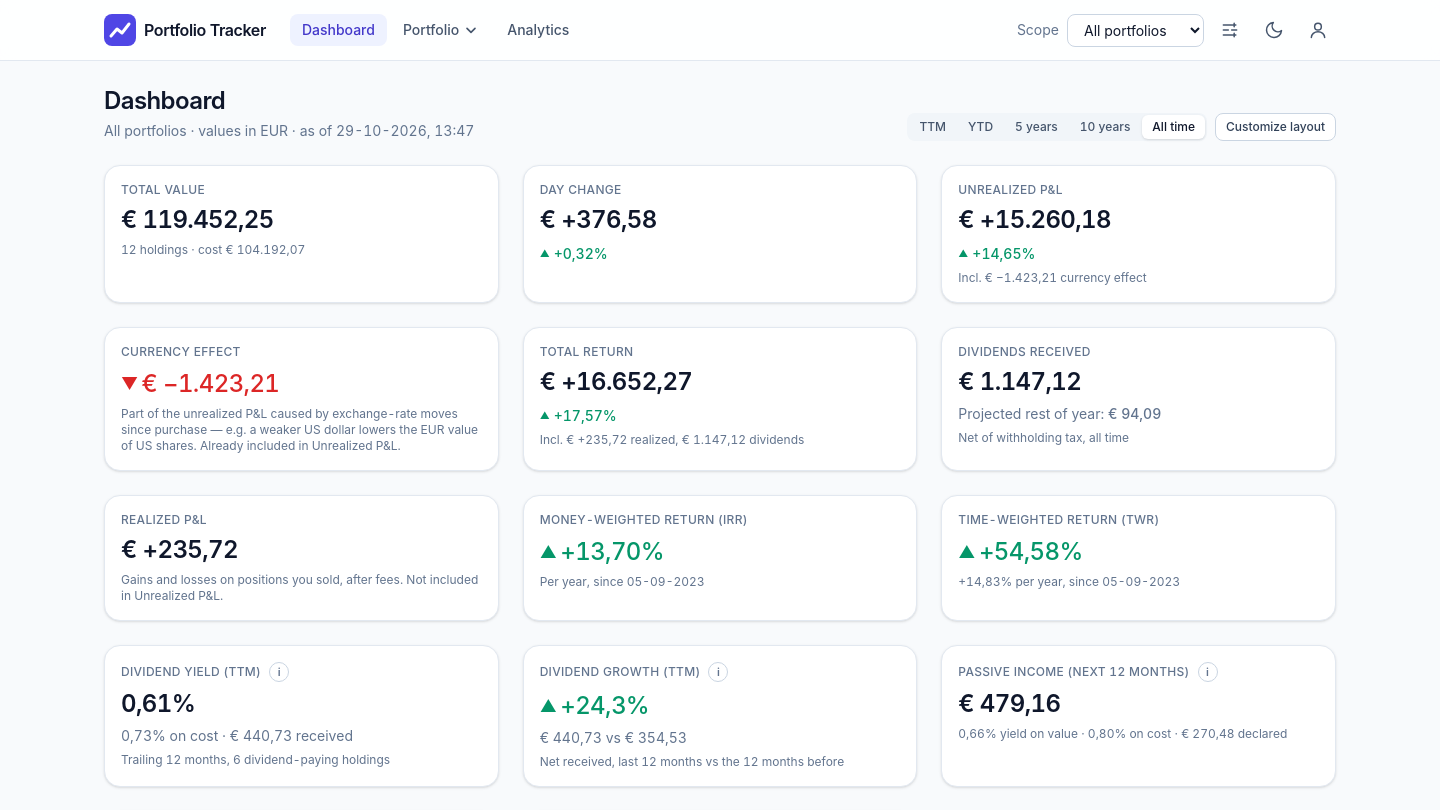
Scenario: sign-in gate › restores a session silently and shows the dashboard with the signed-in email in the account menu
Expected: the heading "Dashboard" is shown, left=104, top=86, right=225, bottom=115
What coordinates should you click on to do the following:
click the button named "Account"
I would click on:
 (1318, 30)
Its box is left=1300, top=12, right=1336, bottom=48.
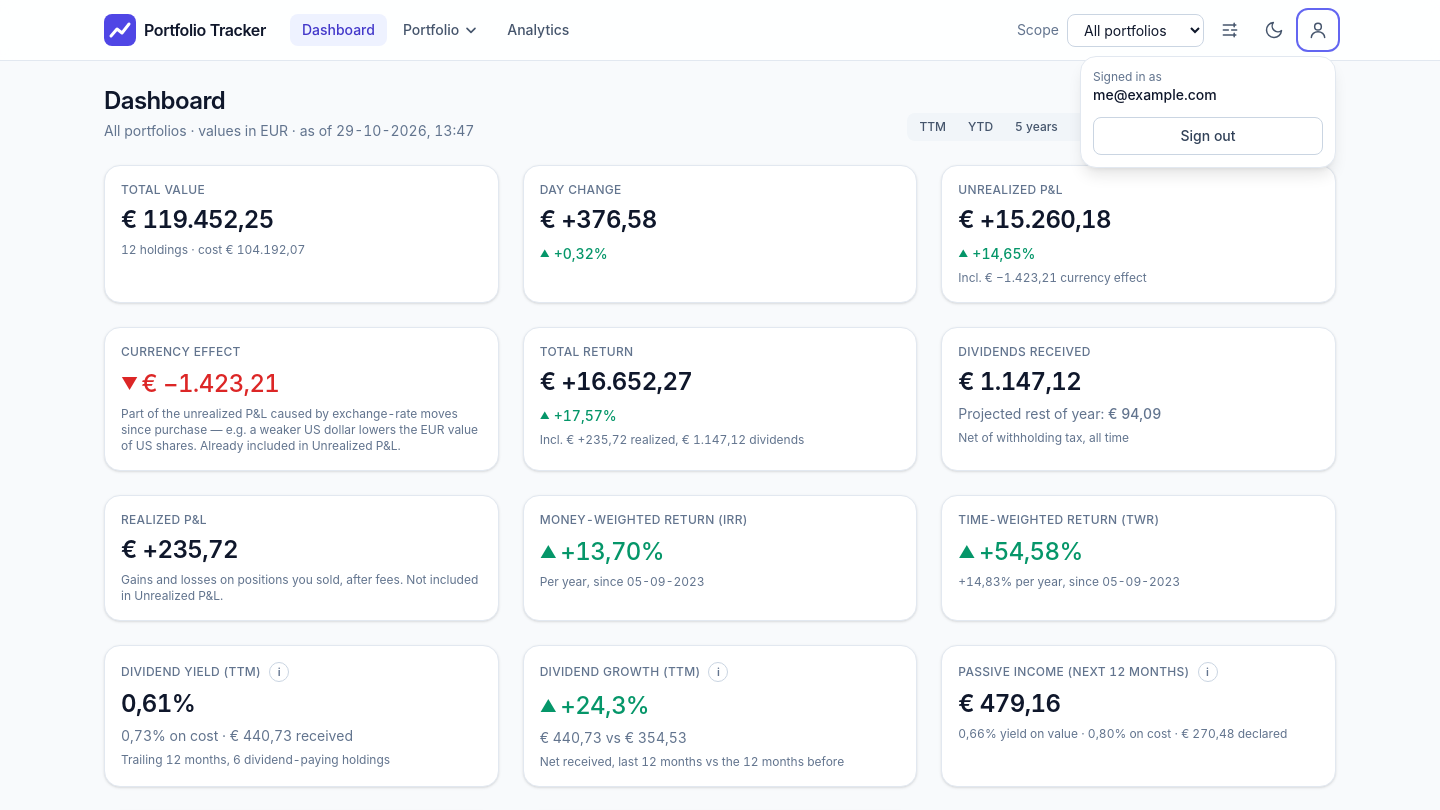
Expected: the text "me@example.com" is shown, left=1093, top=86, right=1217, bottom=103
